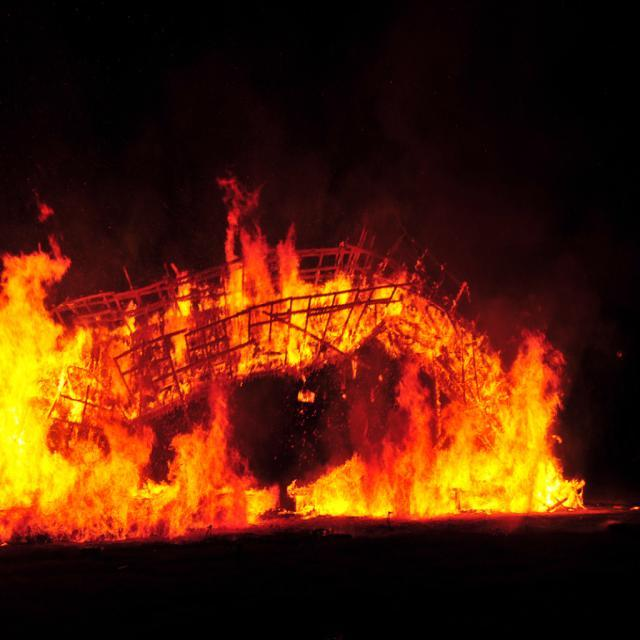Fire: (0, 296, 151, 532), (408, 322, 568, 506), (180, 276, 360, 362)
